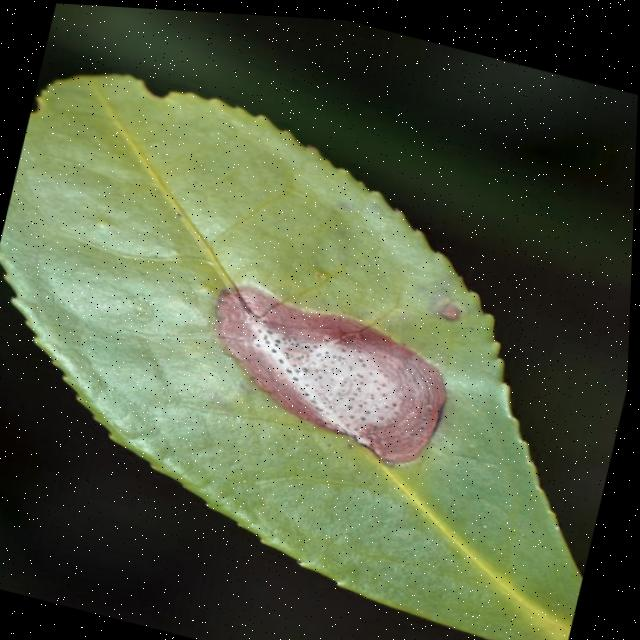Tea cloud leaf blight: (193, 275, 463, 462)
